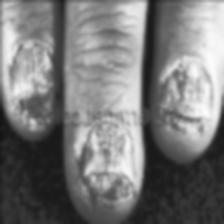Toxin: (82, 126, 136, 206), (158, 60, 213, 130), (10, 46, 56, 112)
